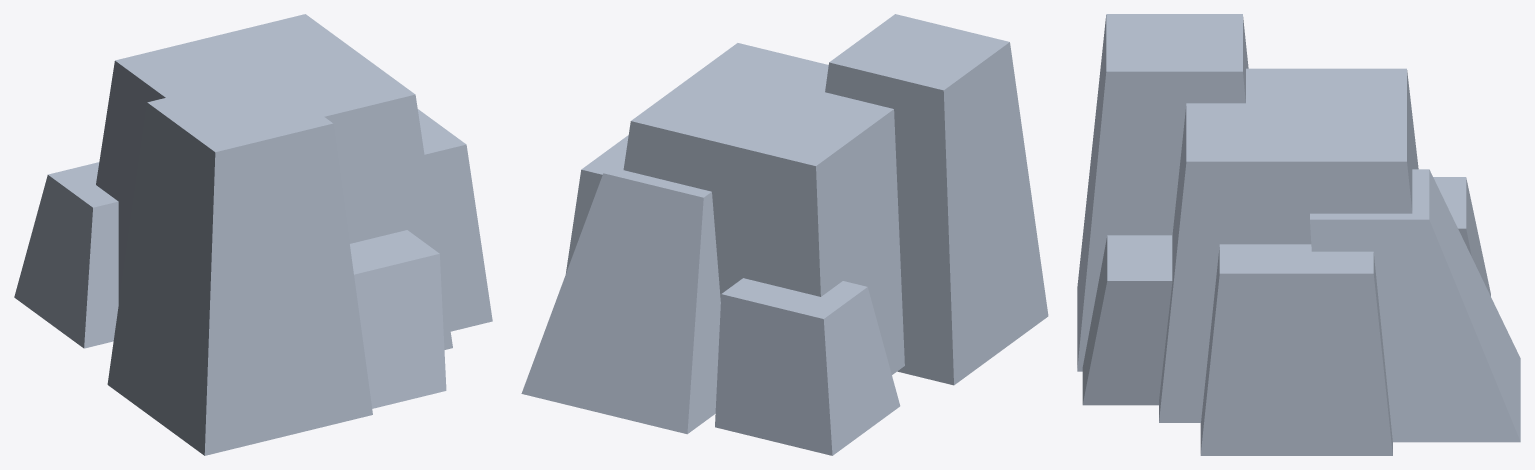
The model's file is Stones0.fbx.
3 renders of one model, left to right at view 1: azimuth 30°, elevation 25°; view 2: azimuth 150°, elevation 25°; view 3: azimuth 270°, elevation 25°, orthographic. The views are drawn at different scales.
Visible parts, largest first — view 1: Stones0; view 2: Stones0; view 3: Stones0.
Boxes of the visible parts, bbox=[...] form: Stones0: bbox=[14, 14, 492, 455]; Stones0: bbox=[521, 14, 1048, 455]; Stones0: bbox=[1077, 14, 1520, 455].
Bounding box in the file's own units: 294 × 230 × 322.
